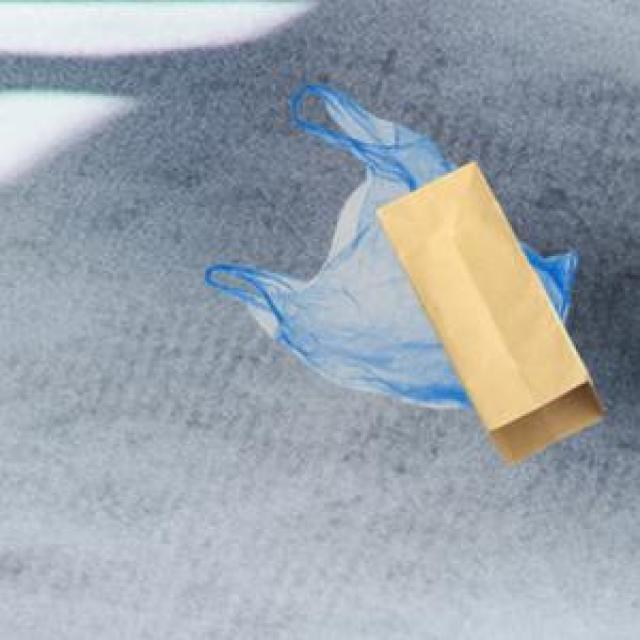paper: (373, 158, 600, 461)
